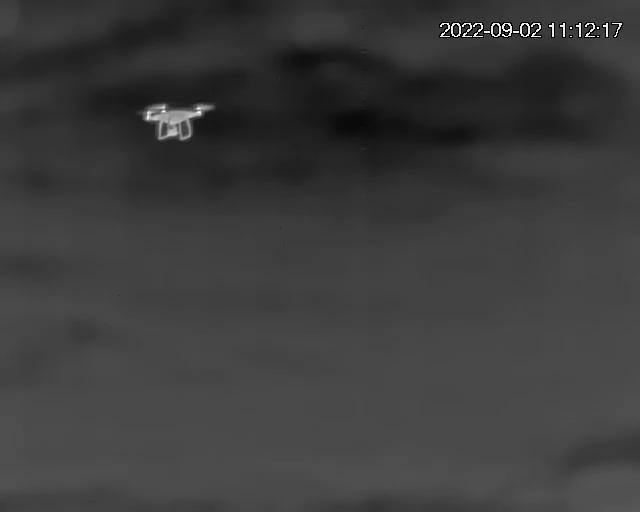DJI-Phantom: (140, 98, 217, 142)
